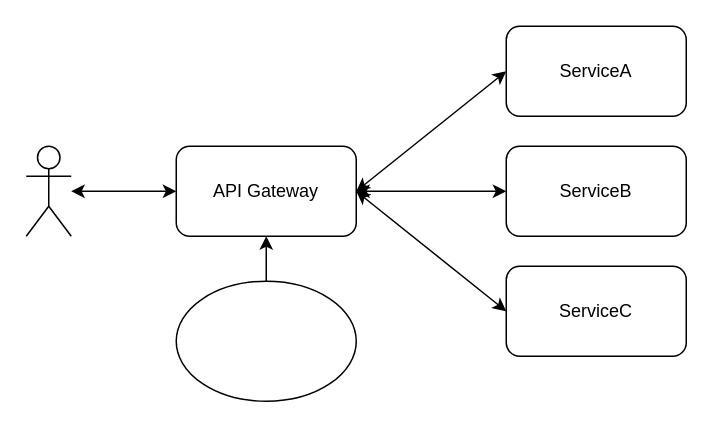
Image size: 713x428. Some labels were removed from this diagram. Each missing label, with the centre of its shape:
Actor: the point at 48,190
Service: the point at 265,340
